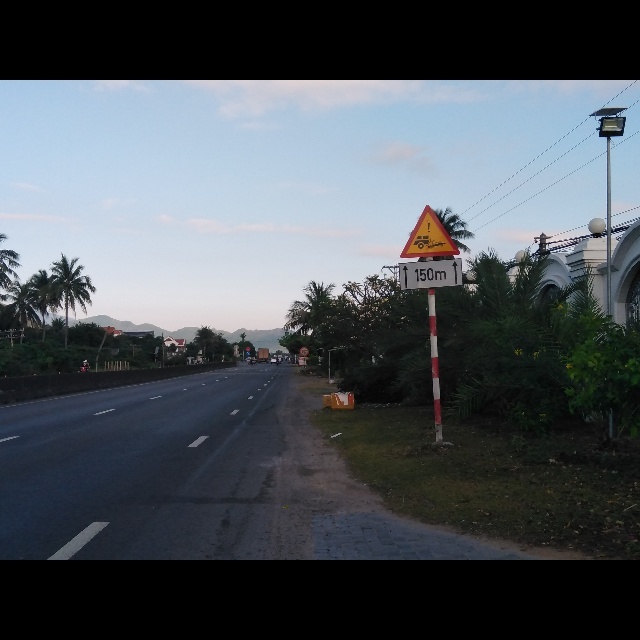Đoạn đường hay xảy ra tai nạn: (399, 203, 462, 257)
